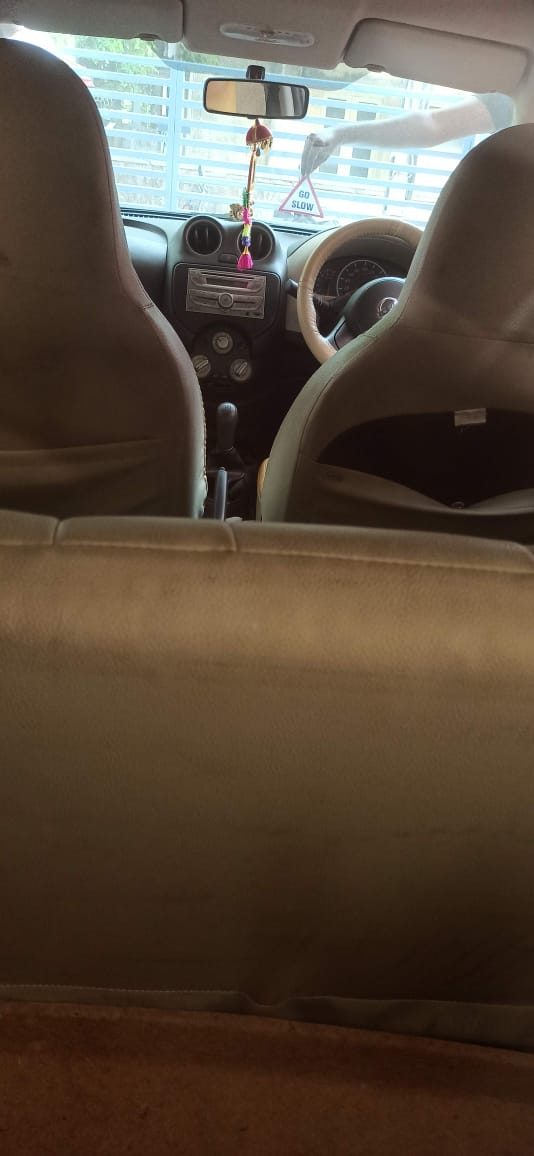GO SLOW: (269, 144, 331, 240)
